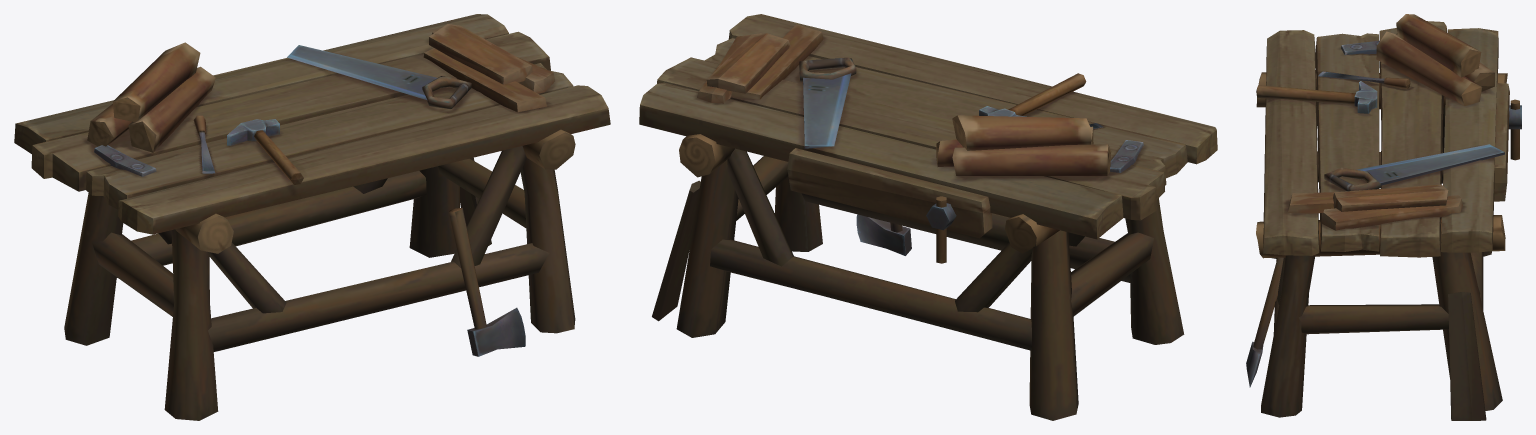
The model's file is WoodworkingBench.FBX.
3 renders of one model, left to right at view 1: azimuth 30°, elevation 25°; view 2: azimuth 150°, elevation 25°; view 3: azimuth 270°, elevation 25°, orthographic. The views are drawn at different scales.
Parts seen in each view (by area): view 1: Object172; view 2: Object172; view 3: Object172.
Part boxes in pixels (x1,y1,x2,y2): Object172: (14,14,610,420); Object172: (639,14,1217,420); Object172: (1246,14,1521,420).
Size of the model in its own units: 2.07 by 1.09 by 1.12.
Materials: 1 (1 with a texture image).
